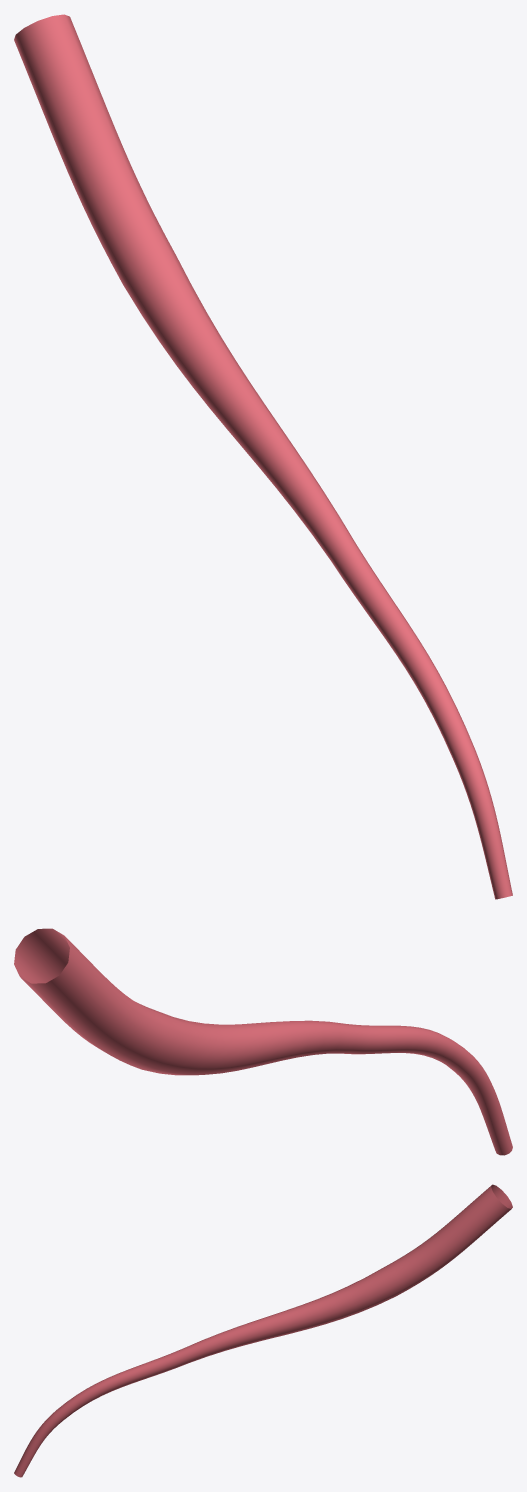
The picture shows the model from 3 angles, top to bottom: view 1: azimuth 30°, elevation 25°; view 2: azimuth 150°, elevation 25°; view 3: azimuth 270°, elevation 25°; orthographic projection. The views are drawn at different scales.
Parts seen in each view (by area): view 1: ZA_fb4bccc299cc0fb5; view 2: ZA_fb4bccc299cc0fb5; view 3: ZA_fb4bccc299cc0fb5.
Part boxes in pixels (x1,y1,x2,y2): ZA_fb4bccc299cc0fb5: (14,14,512,899); ZA_fb4bccc299cc0fb5: (14,928,512,1155); ZA_fb4bccc299cc0fb5: (14,1184,512,1477).
Bounding box in the file's own units: 0.002 × 0.0201 × 0.0314.
